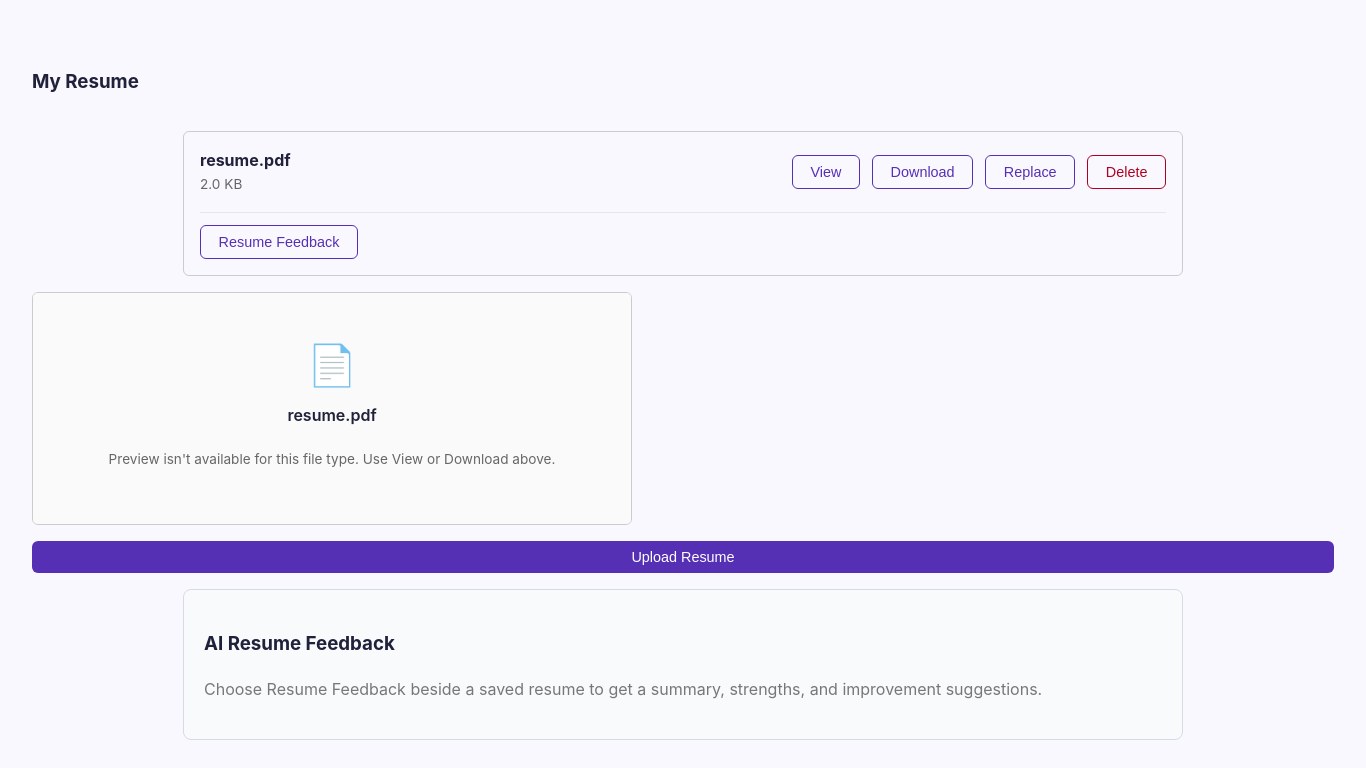
it: Resume feedback states › says which resume the feedback is for
Step 1. Click the button "Resume Feedback" → (279, 242), box [200,225,358,259]
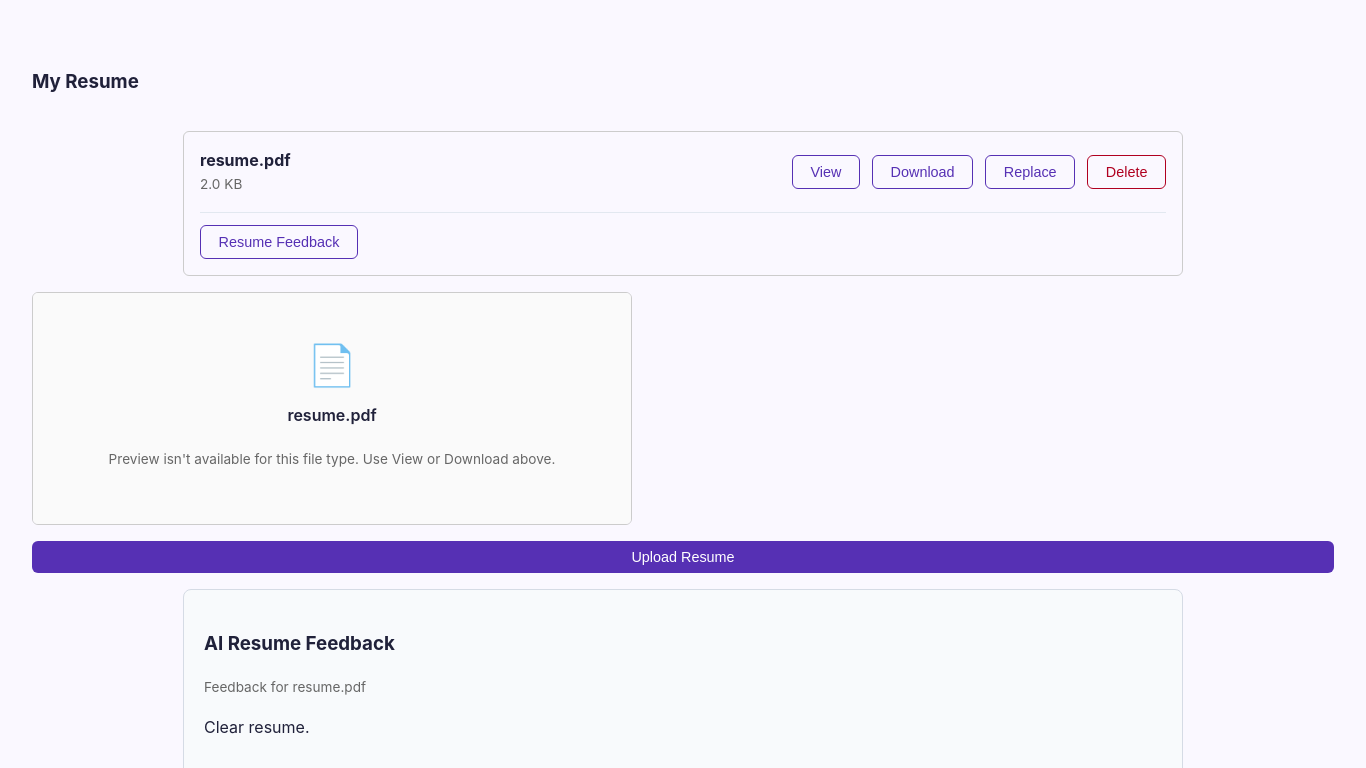
Result: the text "Feedback for resume.pdf" is shown at [204,679,366,695]
